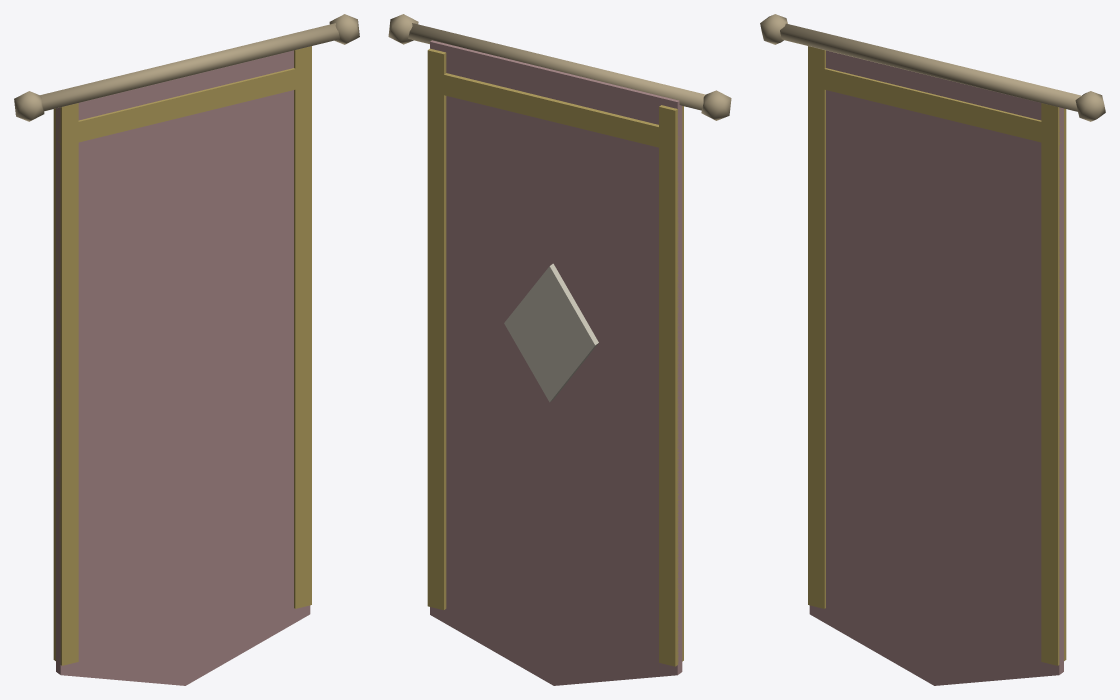
The model's file is wandering_eye_banner_v0.glb.
The picture shows the model from 3 angles, left to right: view 1: azimuth 30°, elevation 25°; view 2: azimuth 150°, elevation 25°; view 3: azimuth 330°, elevation 25°; orthographic projection.
Parts seen in each view (by area): view 1: wandering_eye_banner_v0; view 2: wandering_eye_banner_v0; view 3: wandering_eye_banner_v0.
Boxes of the visible parts, x1,y1,x2,y2 form: wandering_eye_banner_v0: [14, 14, 359, 685]; wandering_eye_banner_v0: [388, 14, 731, 685]; wandering_eye_banner_v0: [760, 14, 1105, 685].
Bounding box in the file's own units: 1.04 × 1.84 × 0.0933.
